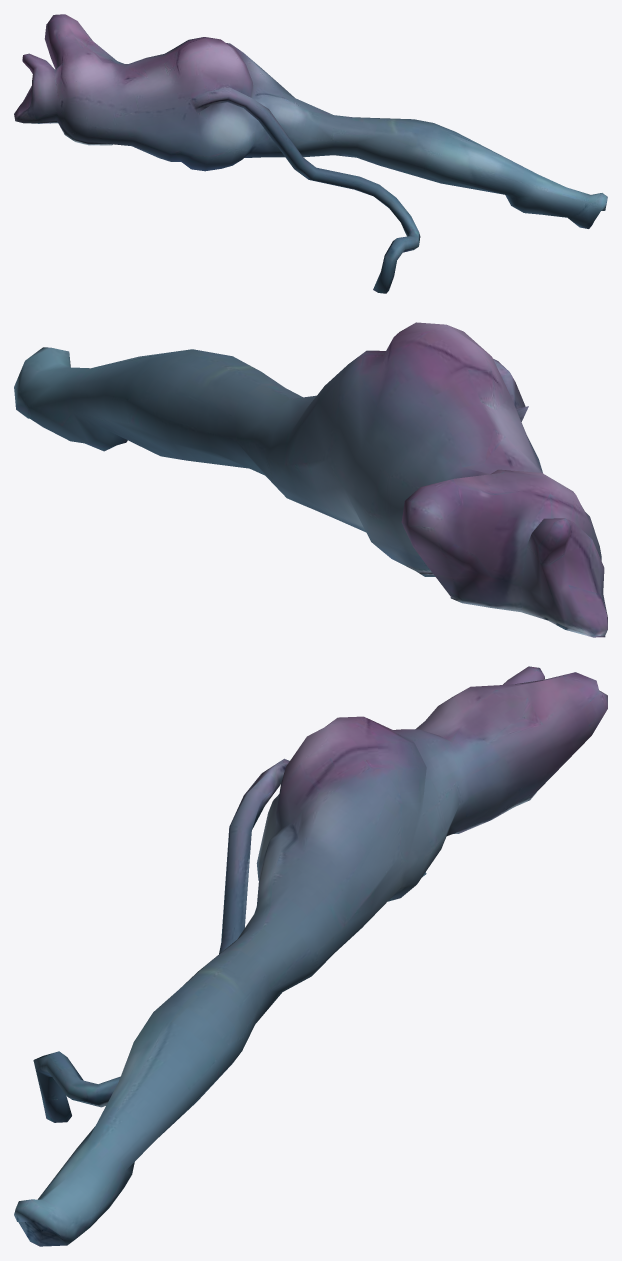
3 views of the same model, one above another, from view 1: azimuth 30°, elevation 25°; view 2: azimuth 150°, elevation 25°; view 3: azimuth 270°, elevation 25° (orthographic). The views are drawn at different scales.
Visible parts, largest first — view 1: tripo_part_9; view 2: tripo_part_9; view 3: tripo_part_9.
Boxes of the visible parts, x1,y1,x2,y2 form: tripo_part_9: (14,14,607,293); tripo_part_9: (14,322,607,637); tripo_part_9: (14,666,607,1246).
Bounding box in the file's own units: 0.477 × 0.21 × 0.3426.
1 material, 1 textured.
